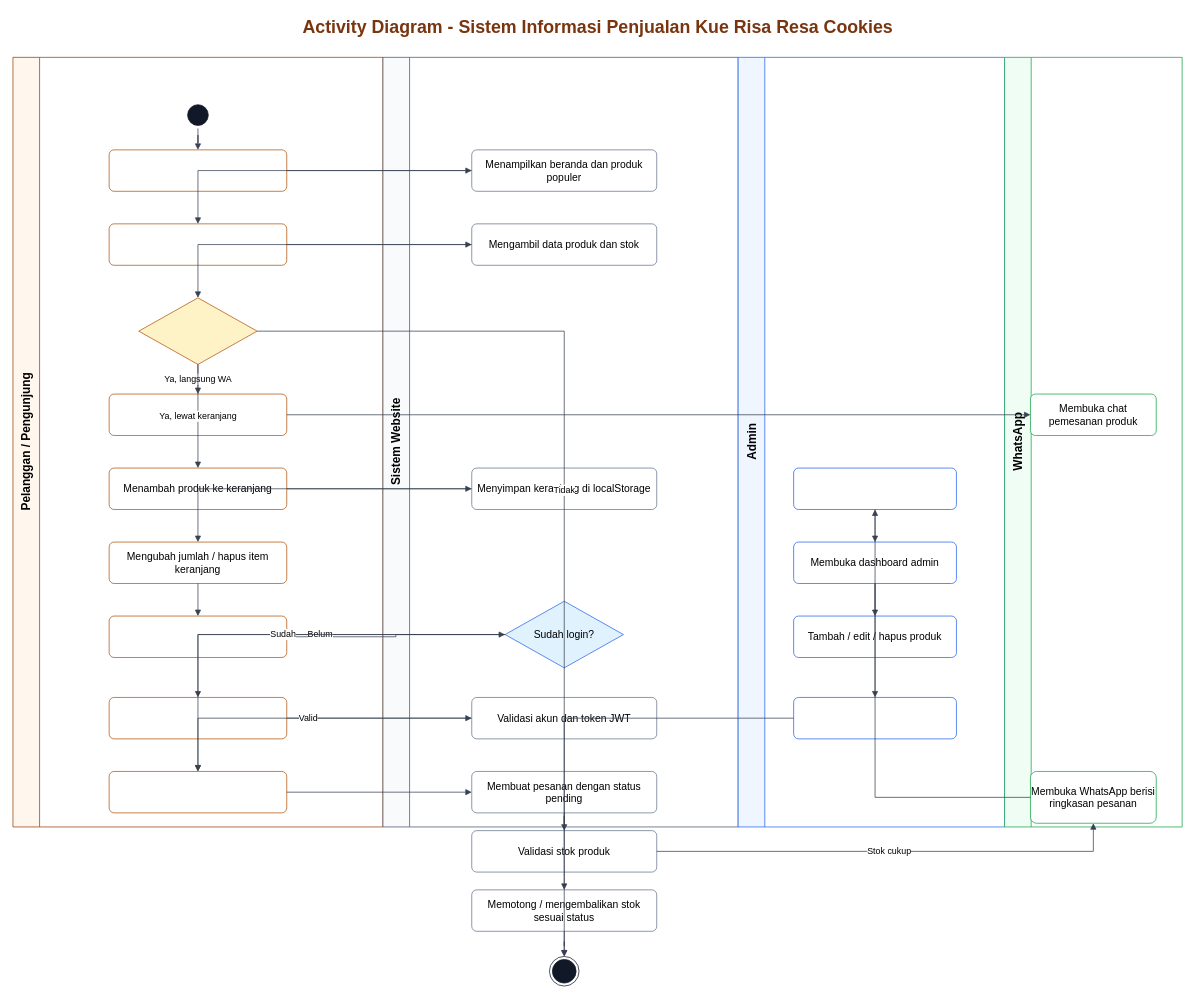
This 1195x999 diagram has some shape labels left out. Each missing label, with the box of its shape:
Klik checkout: (108, 615, 287, 657)
Login / registrasi akun: (108, 697, 287, 739)
Login sebagai admin: (793, 467, 956, 509)
Melihat dan mengubah status pesanan: (793, 697, 956, 739)
Melihat katalog / detail produk: (108, 223, 287, 265)
Membuka website: (108, 149, 287, 191)
Mengisi alamat pengiriman: (108, 771, 287, 813)
Pilih pesan langsung via WhatsApp: (108, 393, 287, 435)
Produk ingin dibeli?: (138, 297, 257, 364)
